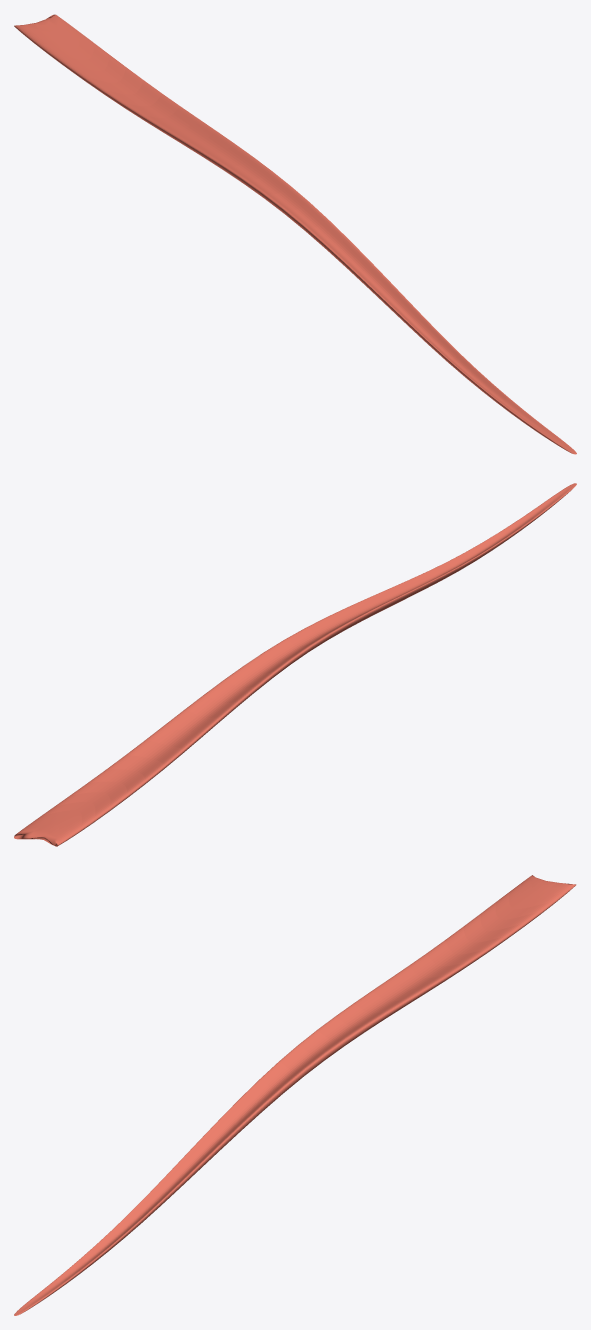
The model's file is Frog_Tongue.fbx.
3 renders of one model, top to bottom at view 1: azimuth 30°, elevation 25°; view 2: azimuth 150°, elevation 25°; view 3: azimuth 330°, elevation 25°, orthographic.
Visible parts, largest first — view 1: Tongue; view 2: Tongue; view 3: Tongue.
Part boxes in pixels (bbox=[...]): Tongue: bbox=[14, 14, 576, 454]; Tongue: bbox=[14, 483, 576, 846]; Tongue: bbox=[14, 875, 576, 1315].
Size of the model in its own units: 12.62 by 14.15 by 266.
